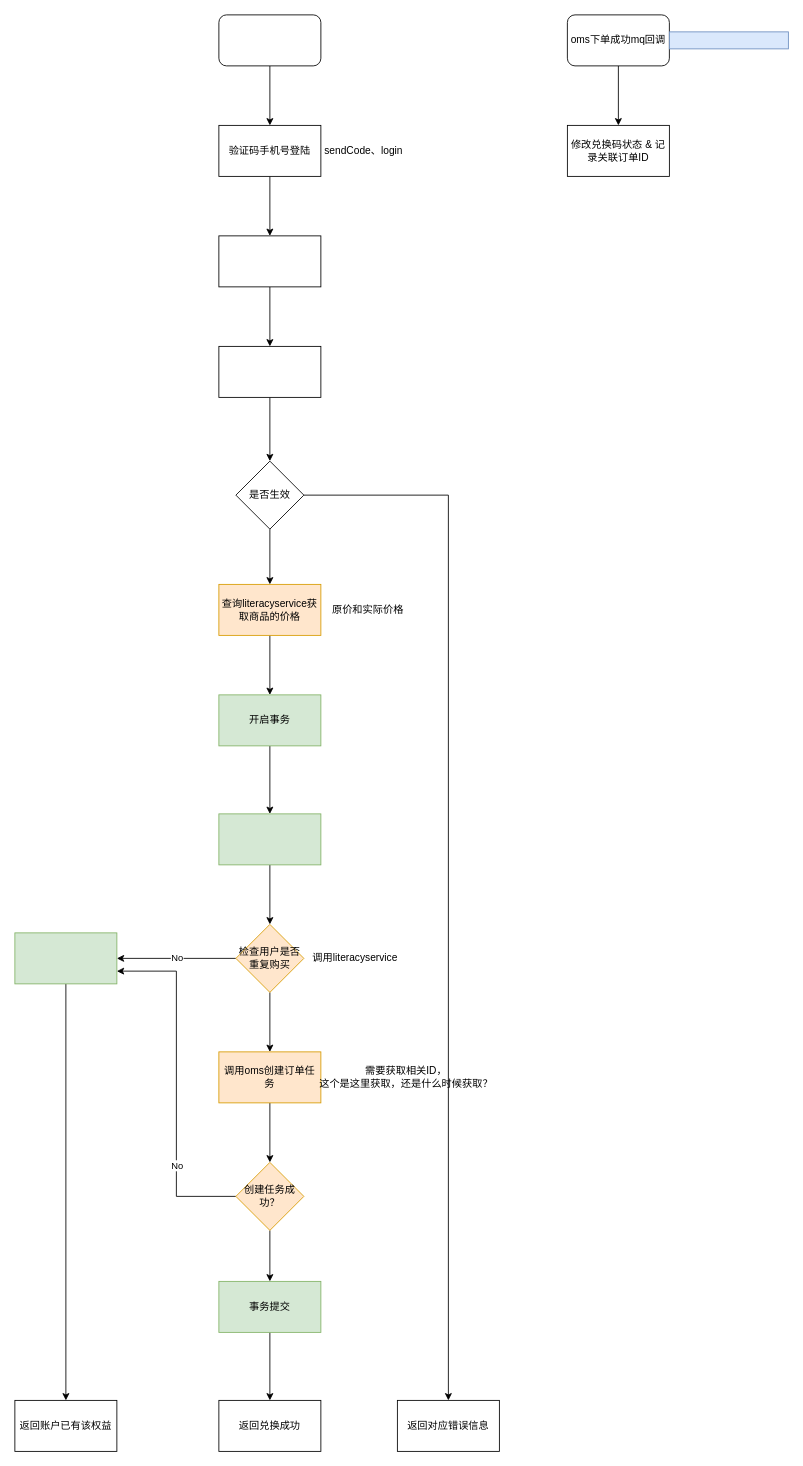
Some shapes in this 803 by 1466 pixel diagram are drawn without their labels. Here are the shapes that lost their labels. From the top down, the centre of each, then its label:
At point (269, 40): "新用户购买了兑换码".
At point (728, 40): "里面应该有订单ID吧？".
At point (269, 261): "新接口兑换商品".
At point (269, 371): "查询兑换码数据".
At point (269, 839): "where status update 兑换码锁住兑换码".
At point (65, 958): "事务回滚".
